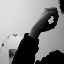o: (34, 6, 60, 31)
